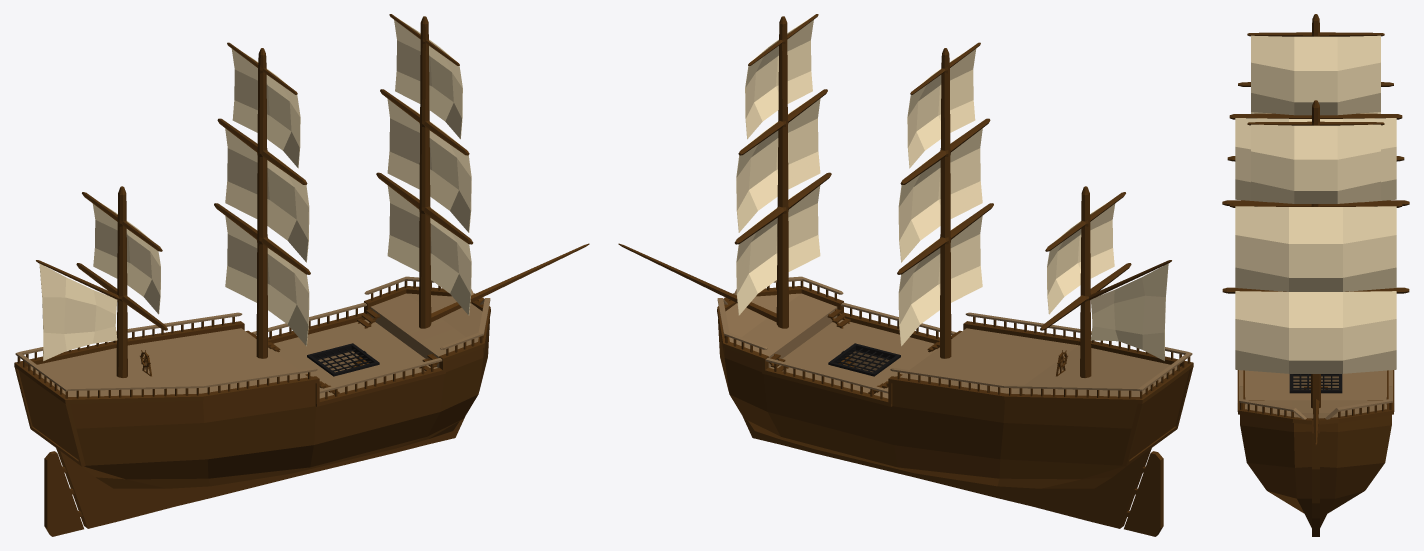
The model's file is low_poly_HMS_endeavour_after_lowering_poly_on_body_after_join (1).fbx.
3 renders of one model, left to right at view 1: azimuth 30°, elevation 25°; view 2: azimuth 150°, elevation 25°; view 3: azimuth 270°, elevation 25°, orthographic.
Visible parts, largest first — view 1: Ship body, Gate; view 2: Ship body, Gate; view 3: Ship body, Gate, Storage and cabin.
Part boxes in pixels (x1,y1,x2,y2): Ship body: (14, 14, 589, 536); Gate: (307, 343, 379, 376); Ship body: (618, 14, 1193, 536); Gate: (828, 343, 900, 376); Ship body: (1222, 14, 1409, 536); Gate: (1289, 374, 1342, 393); Storage and cabin: (1293, 376, 1338, 389).
Size of the model in its own units: 1947 by 4951 by 6580.
